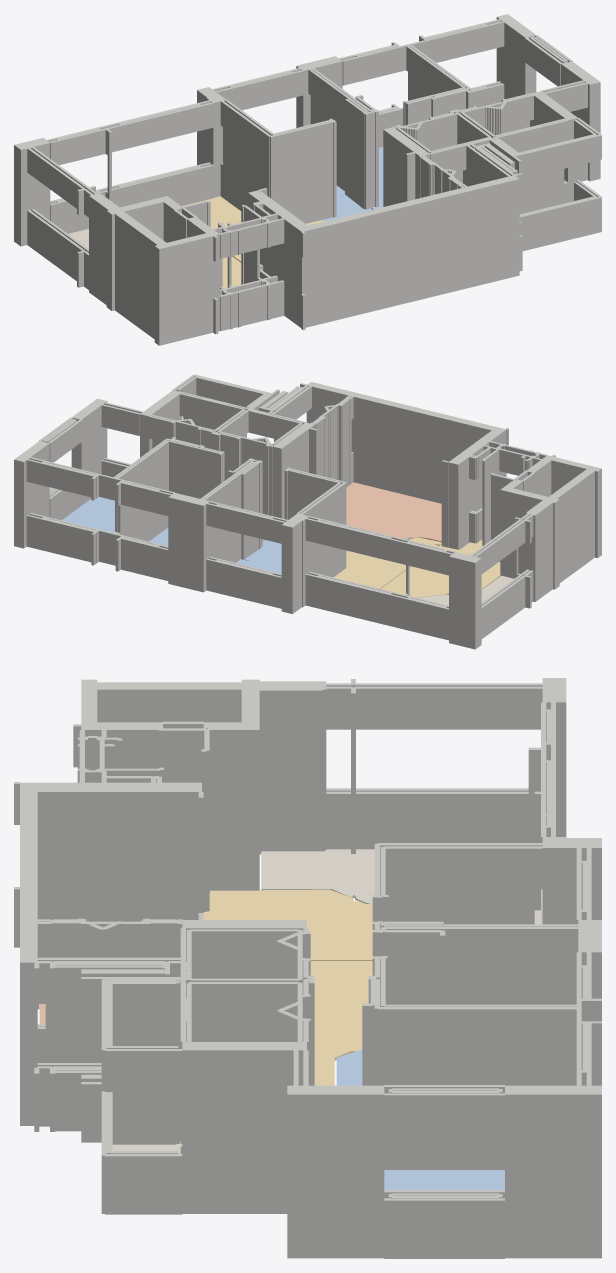
The picture shows the model from 3 angles, top to bottom: view 1: azimuth 30°, elevation 25°; view 2: azimuth 150°, elevation 25°; view 3: azimuth 270°, elevation 25°; orthographic projection. The views are drawn at different scales.
Parts seen in each view (by area): view 1: walls, room:living:9, room:bedroom:13, room:living:8; view 2: walls, room:kitchen:2, room:living:8, room:living:9, room:bedroom:10, room:bedroom:13, room:other:12; view 3: walls, room:living:8, room:living:9, room:other:12, room:bedroom:10, room:bedroom:13.
Boxes of the visible parts, box(x1,y1,x2,y2) form: walls: box(14, 14, 601, 345); room:living:9: box(182, 196, 325, 262); room:bedroom:13: box(321, 185, 372, 220); room:living:8: box(222, 256, 241, 288); walls: box(14, 374, 601, 649); room:kitchen:2: box(346, 482, 441, 541); room:living:8: box(381, 539, 500, 597); room:living:9: box(333, 537, 441, 588); room:bedroom:10: box(62, 497, 114, 532); room:bedroom:13: box(236, 540, 281, 573); room:other:12: box(418, 575, 513, 605); walls: box(14, 678, 601, 1258); room:living:8: box(203, 889, 372, 960); room:living:9: box(310, 961, 372, 1085); room:other:12: box(261, 849, 540, 924); room:bedroom:10: box(384, 1170, 504, 1189); room:bedroom:13: box(336, 1049, 362, 1085).
Size of the model in its own units: 15.32 by 2.8 by 9.12.
